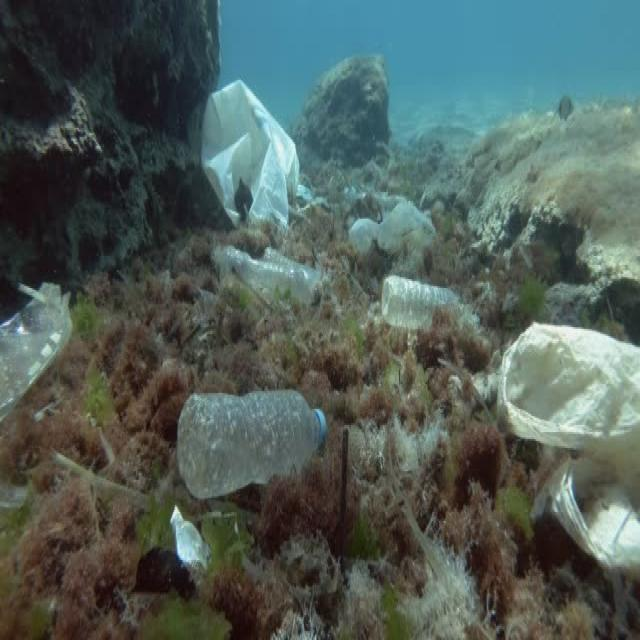plastic: (167, 380, 344, 496), (510, 313, 640, 448), (201, 89, 306, 236)
